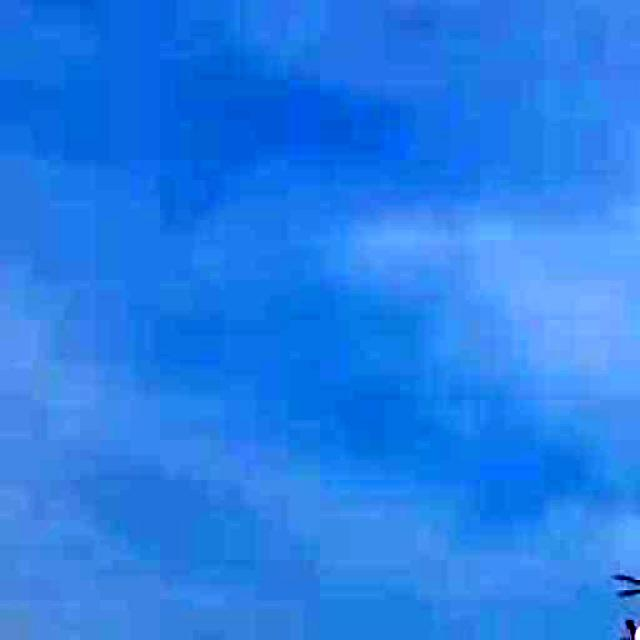drone: (598, 548, 640, 640)
